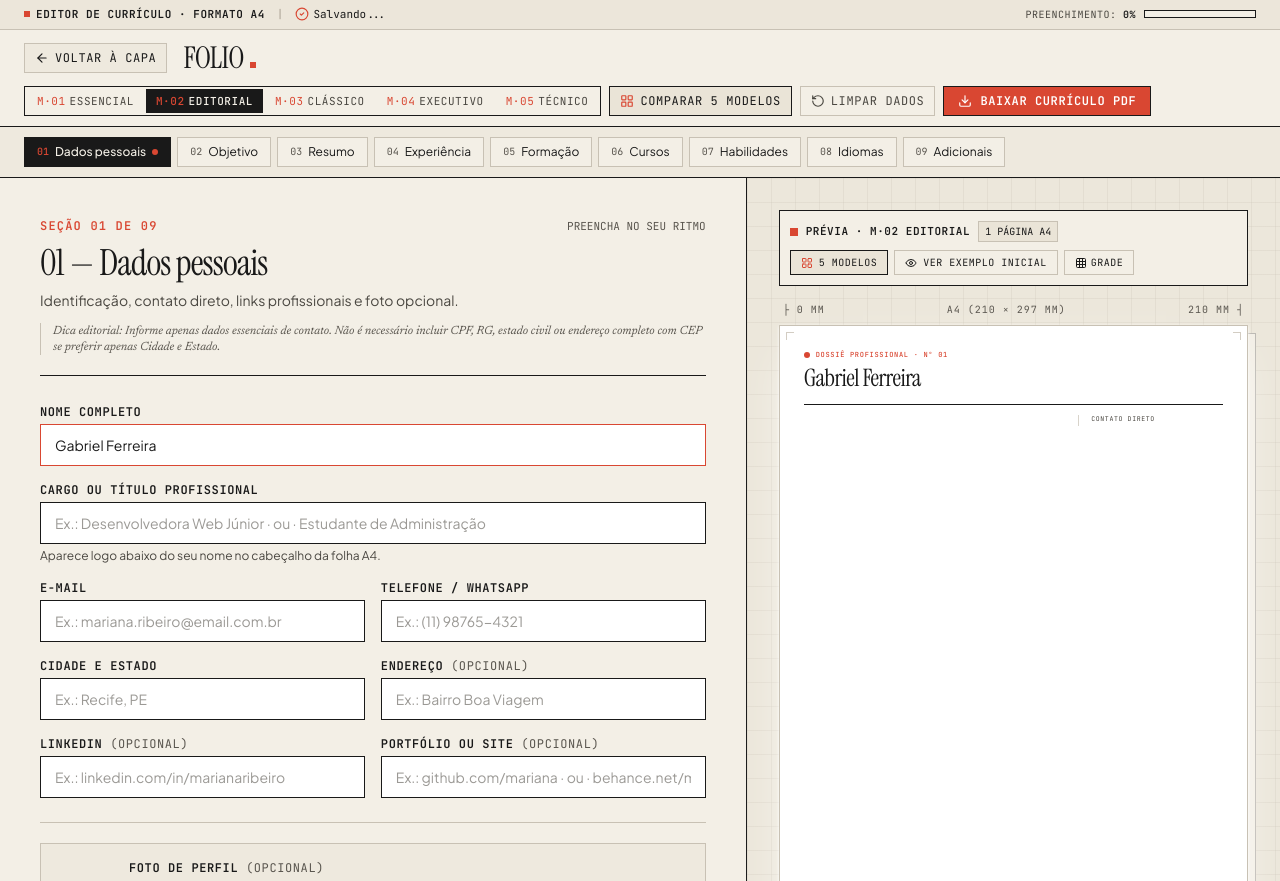
FOLIO — Fases 01 e 02: Página Inicial e Editor de Currículos › atualiza a pré-visualização A4 em tempo real ao preencher Dados Pessoais, Objetivo e Resumo, e salva automaticamente no LocalStorage
This screenshot has width=1280, height=881.
Earlier steps of the test are not shown.
Later steps or results of the test are not shown.
Step 1. Type "Engenheiro Civil Pleno" into the field labelled "Cargo ou título profissional" → {"x": 373, "y": 523}, box [40,502,706,544]
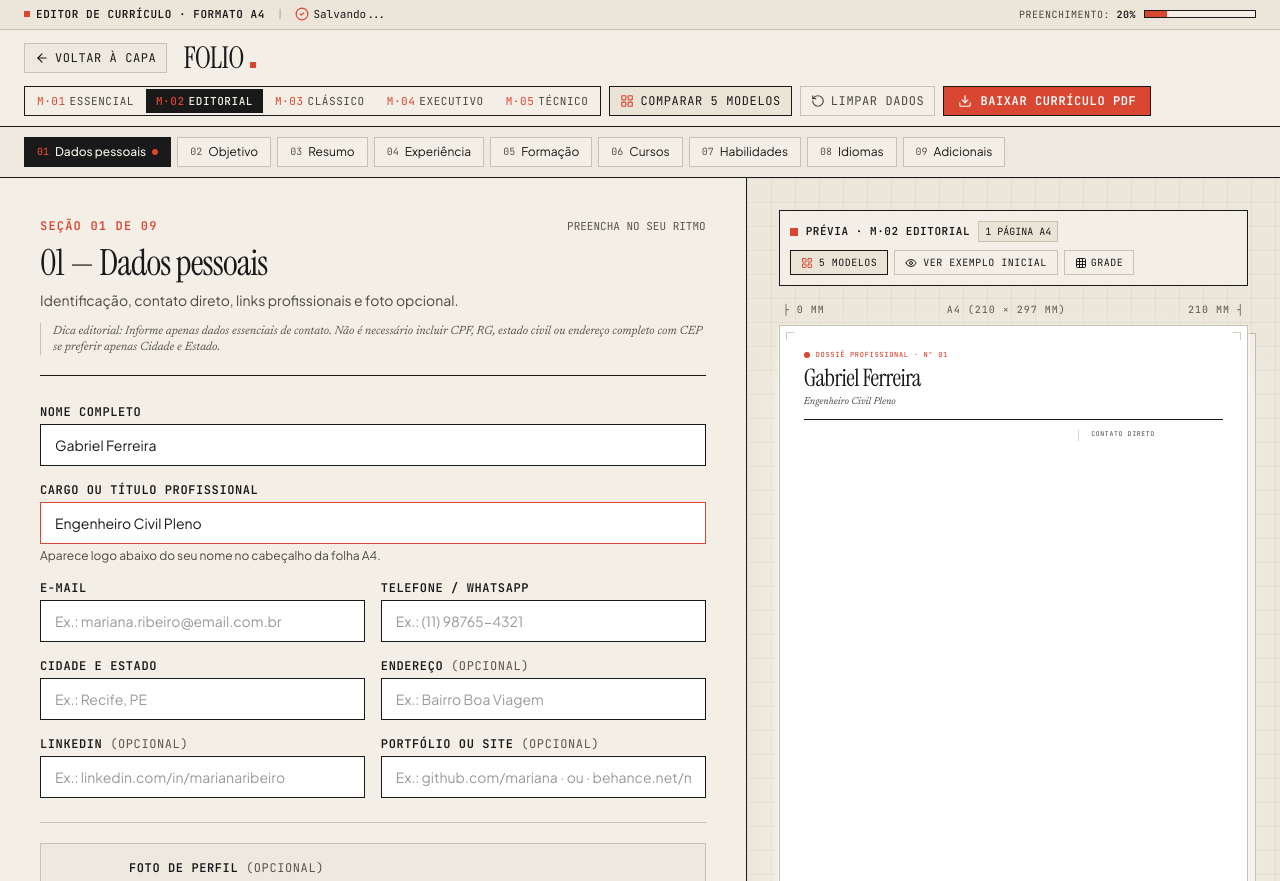
Step 2. Type "gabriel@ferreira.eng.br" into the field labelled "E-mail" → {"x": 202, "y": 621}, box [40,600,365,642]
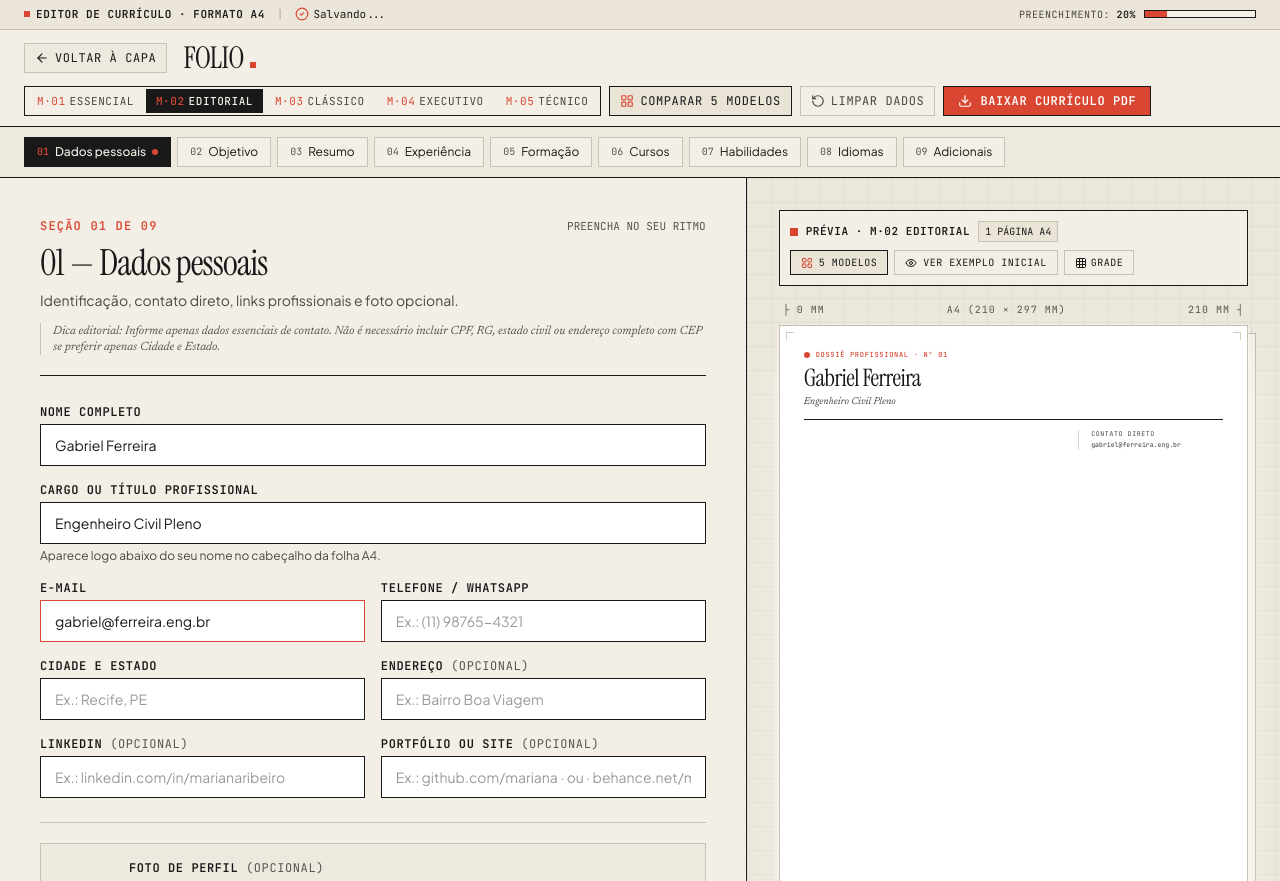
Step 3. Type "(21) 99876-5432" into the field labelled "Telefone / WhatsApp" → {"x": 543, "y": 621}, box [381,600,706,642]
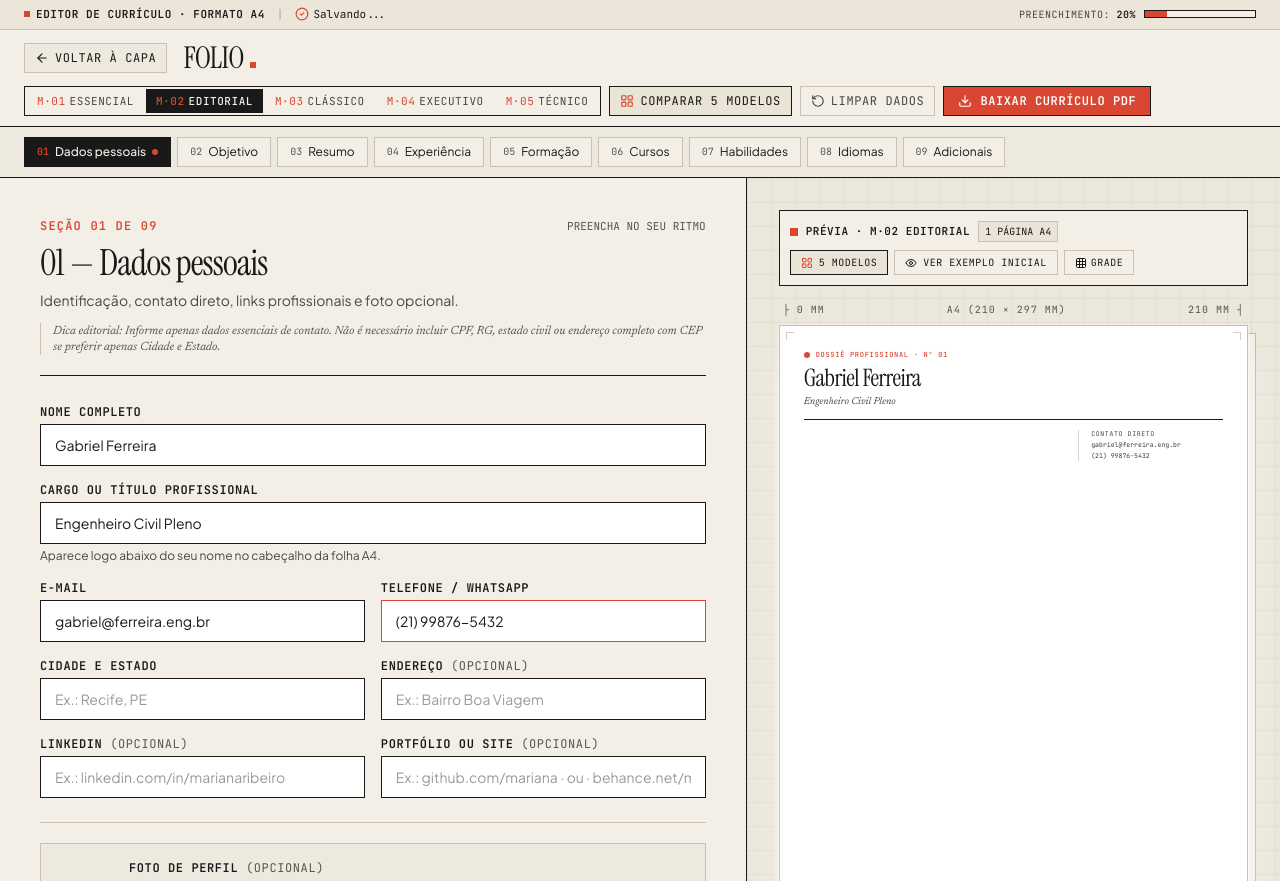
Step 4. Type "Niterói, RJ" into the field labelled "Cidade e estado" → {"x": 202, "y": 699}, box [40,678,365,720]
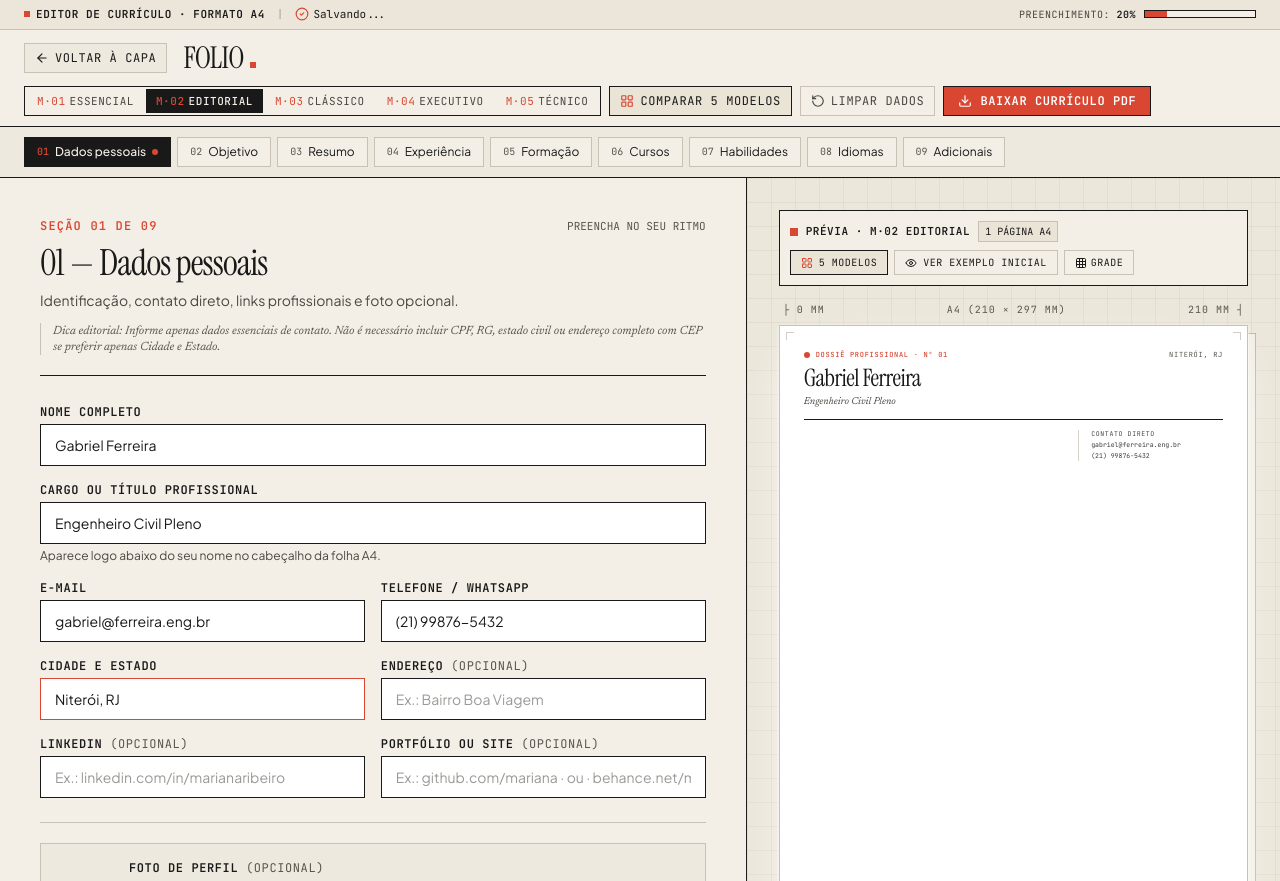
Expected: the text "Gabriel Ferreira" is shown, [804,362,921,393]
Now the text "Engenheiro Civil Pleno" is shown, box [804,397,896,407]
Now the text "gabriel@ferreira.eng.br" is shown, box [1091,440,1181,449]
# 02 — Objetivo Profissional
Step 5. Click the button "02 Objetivo" → {"x": 224, "y": 152}, box [177,137,271,167]
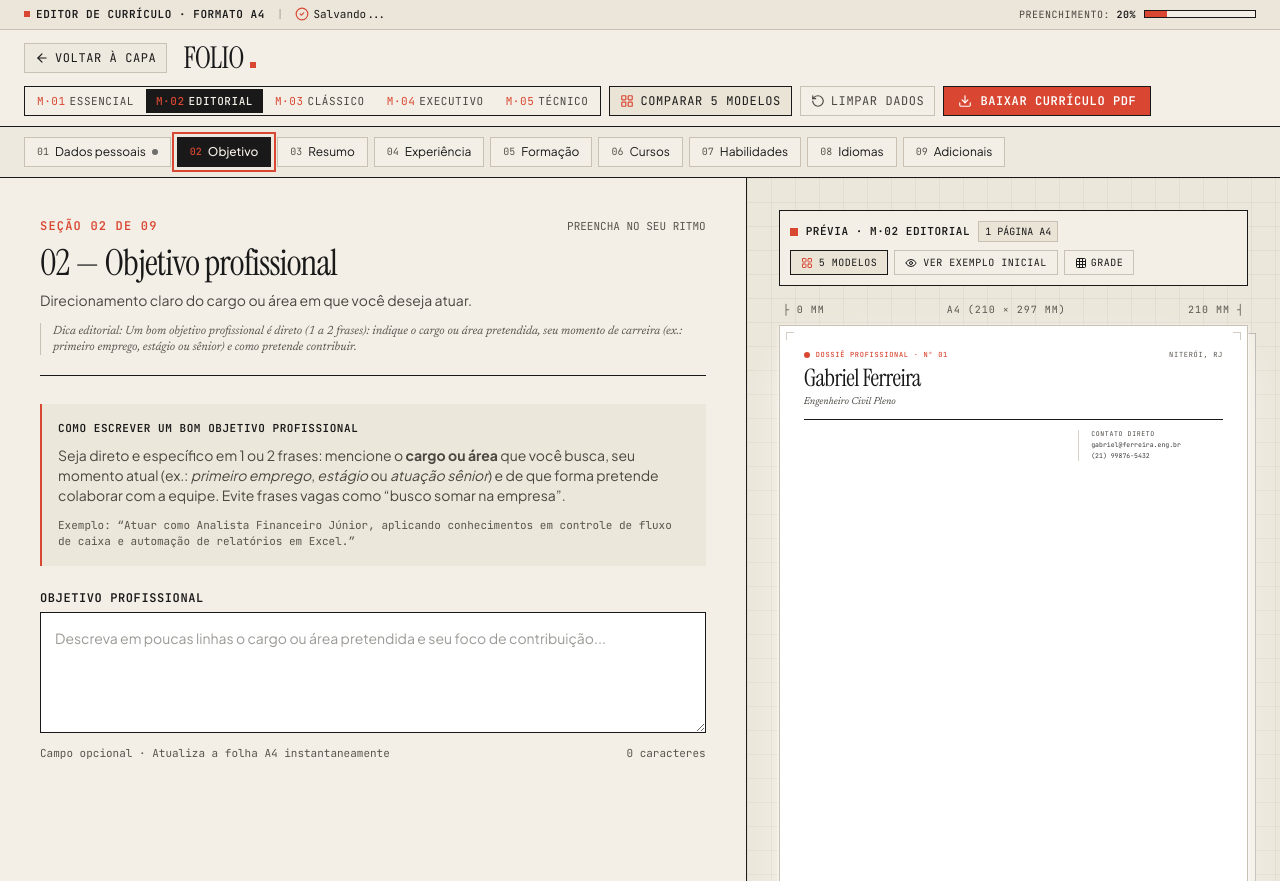
Now the text "COMO ESCREVER UM BOM OBJETIVO PROFISSIONAL" is shown, box [58,421,358,435]
Step 6. Type "Atuar na coordenação de obras civis e infraestrutura urbana." into the text box labelled "Objetivo profissional" → {"x": 373, "y": 672}, box [40,612,706,733]
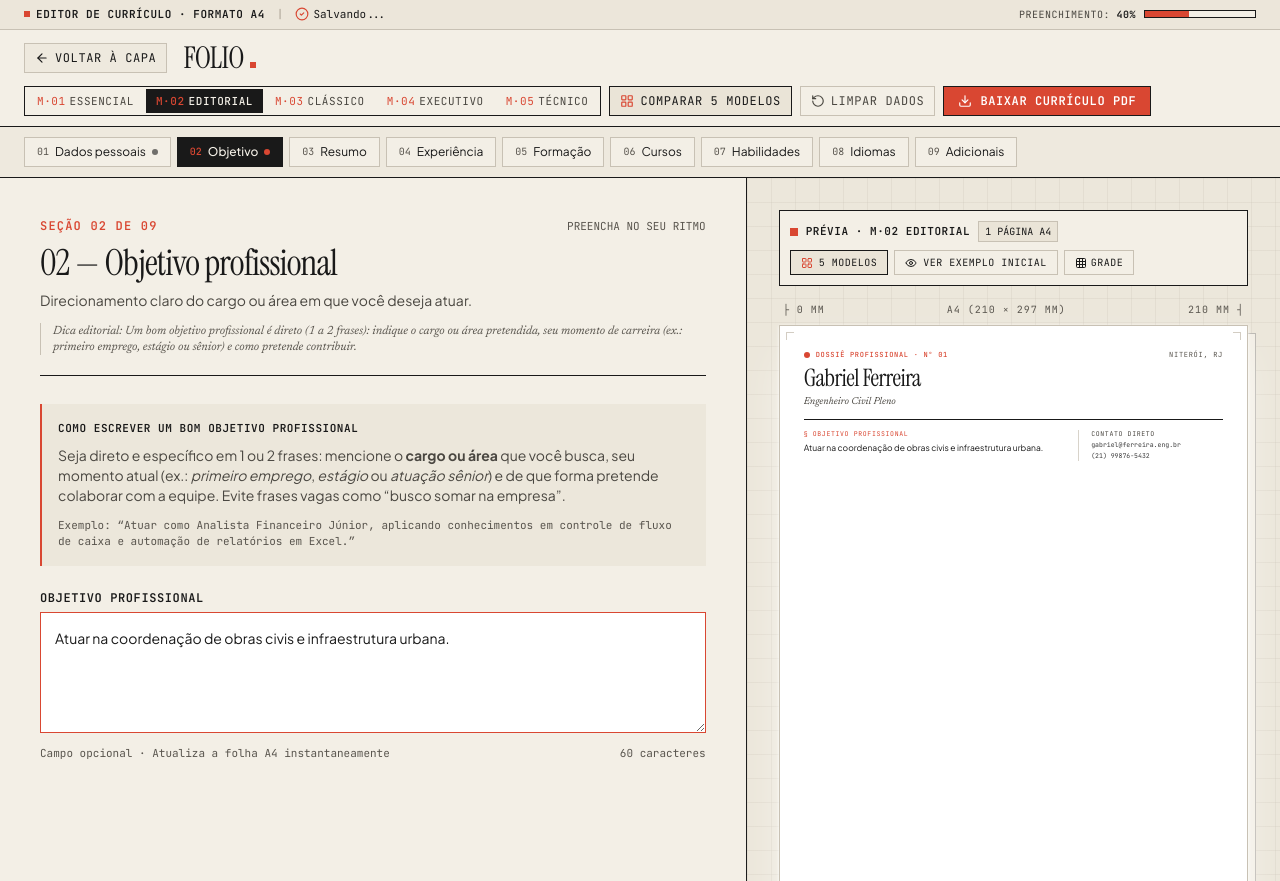
Now the text "Atuar na coordenação de obras civis e infraestrutura urbana." is shown, box [804,441,1070,455]
